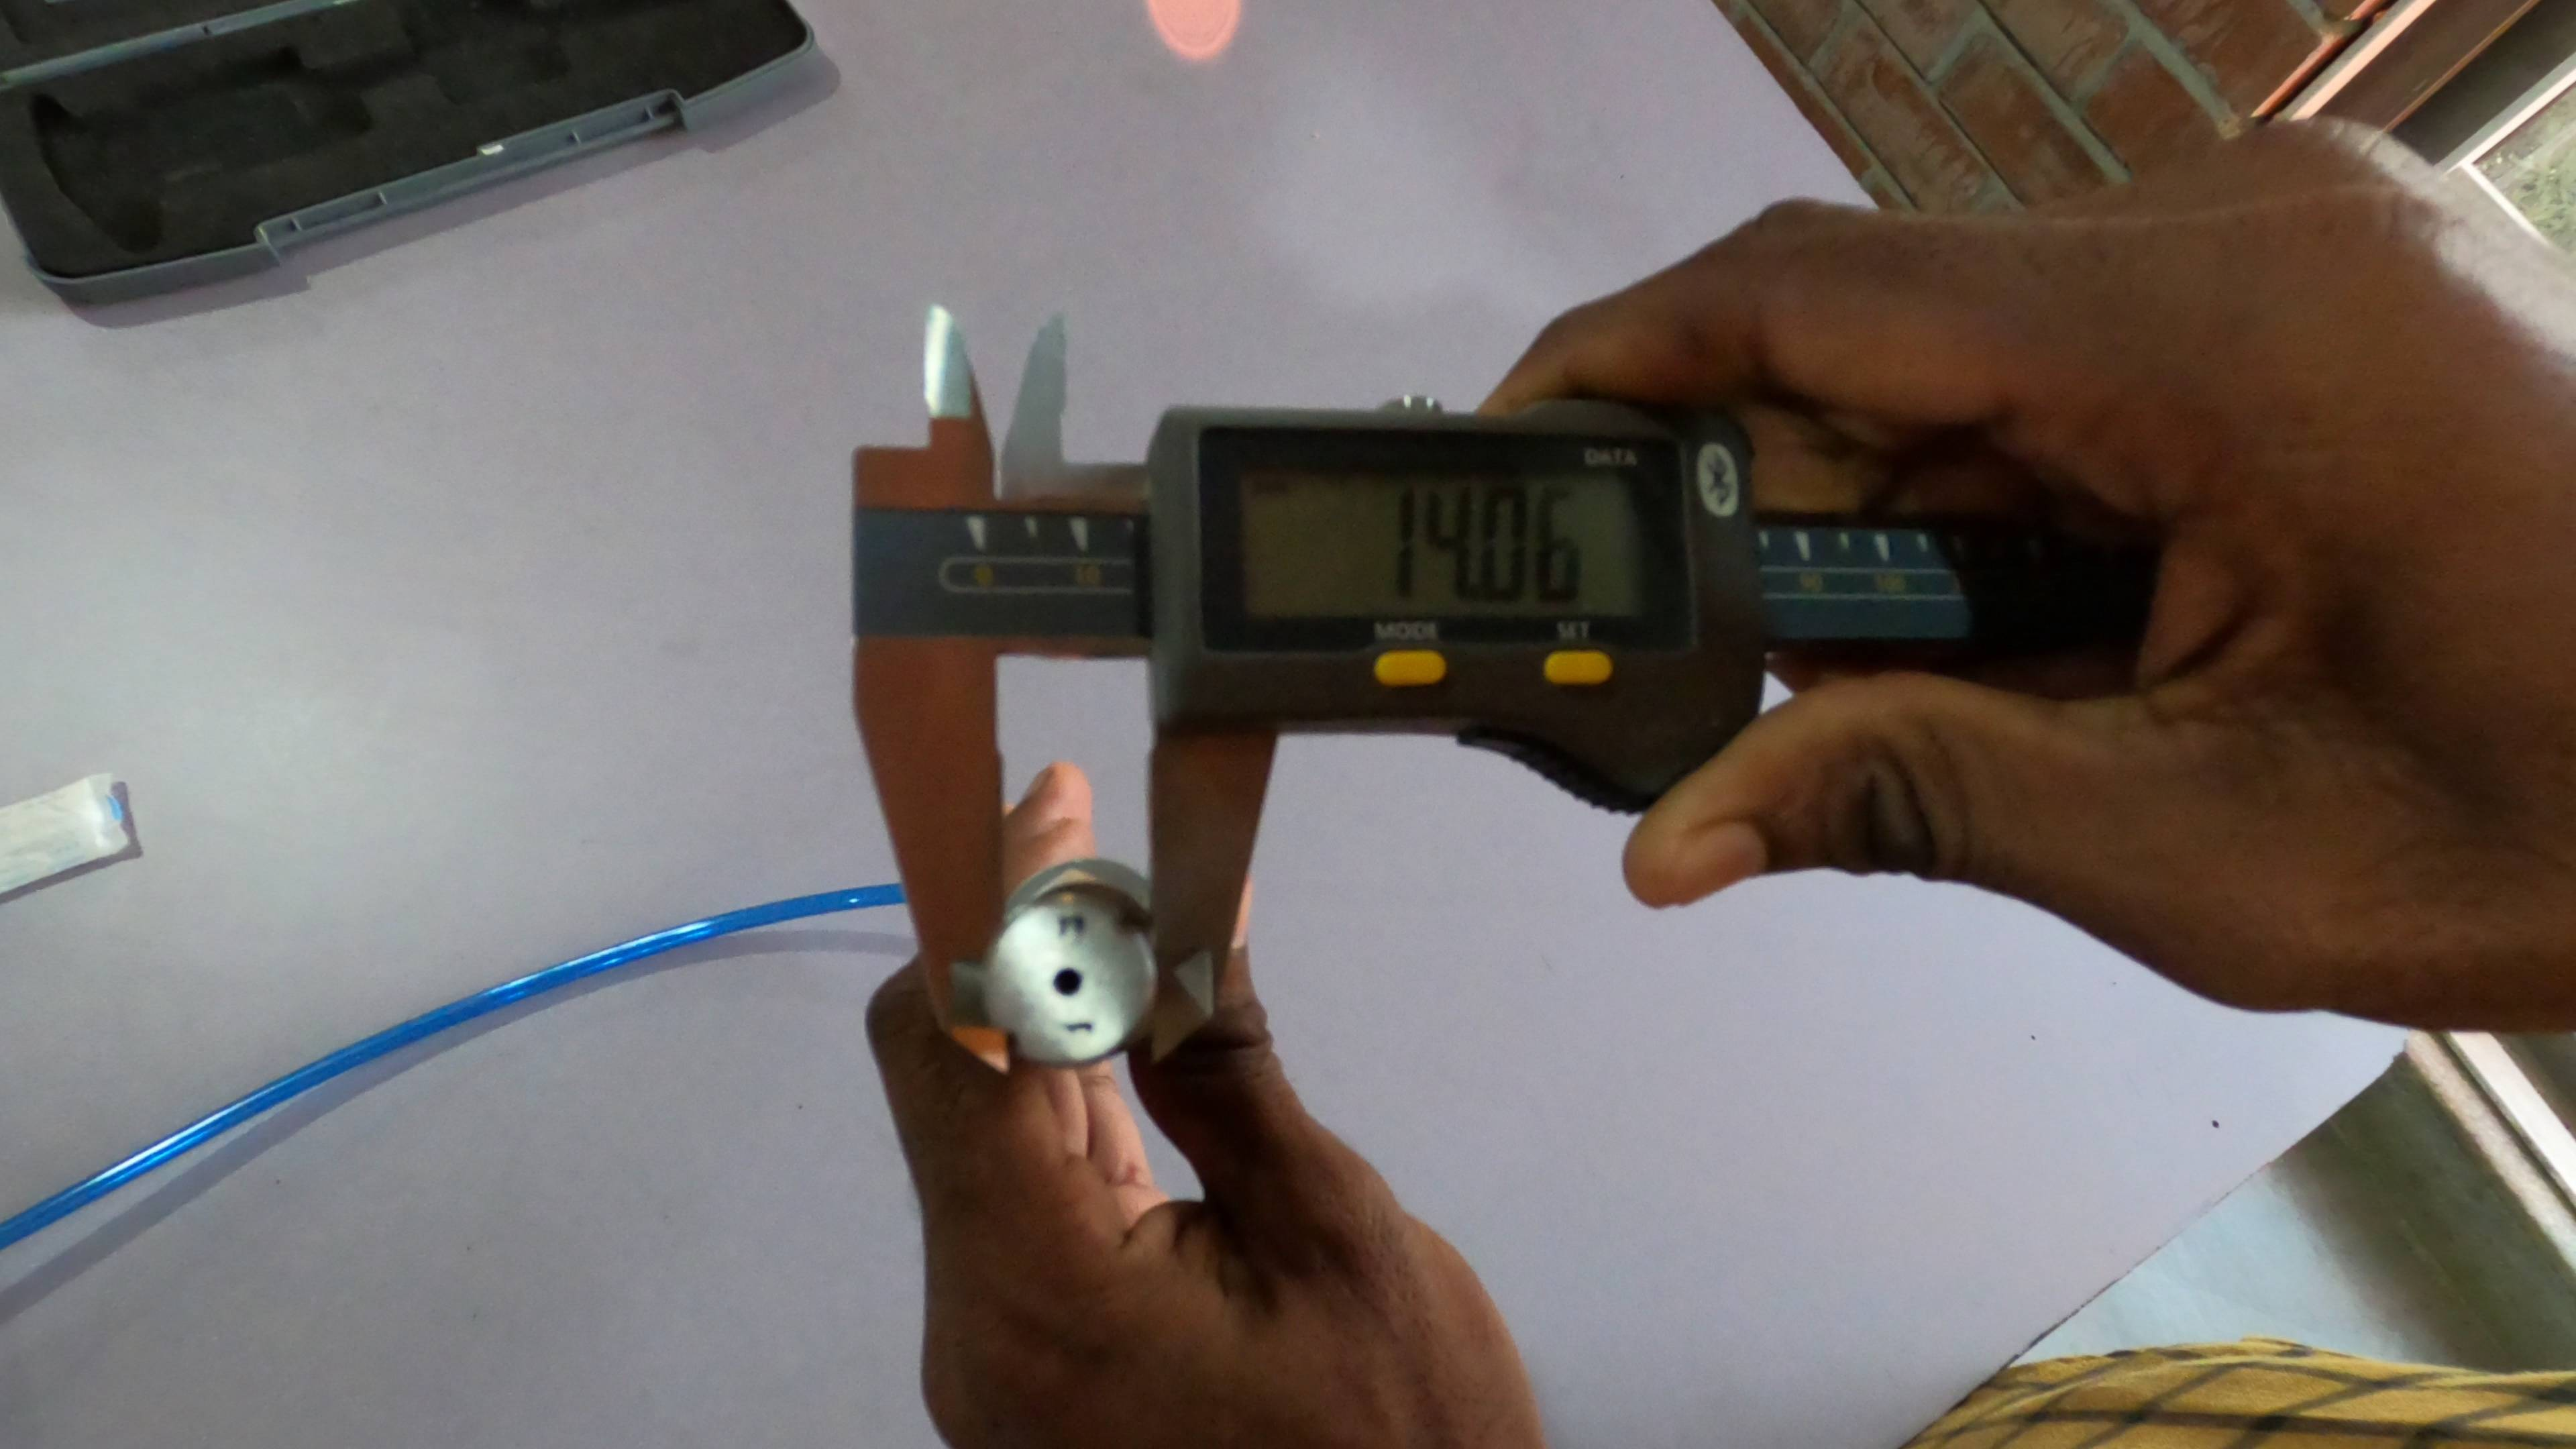vernier_caliper: (853, 299, 2095, 1070)
